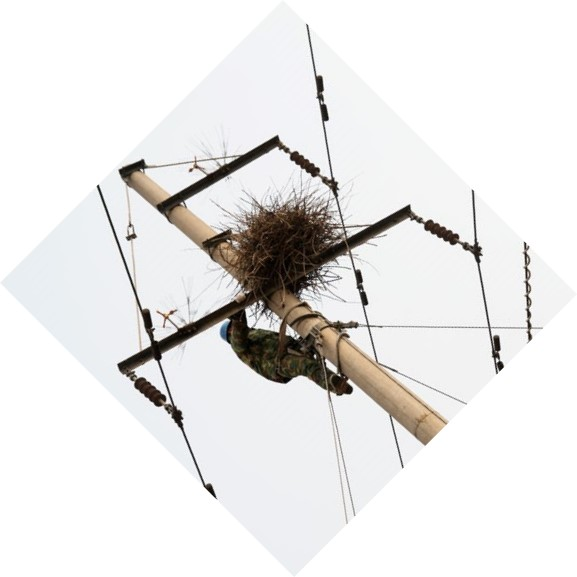niaowo: (210, 192, 343, 295)
